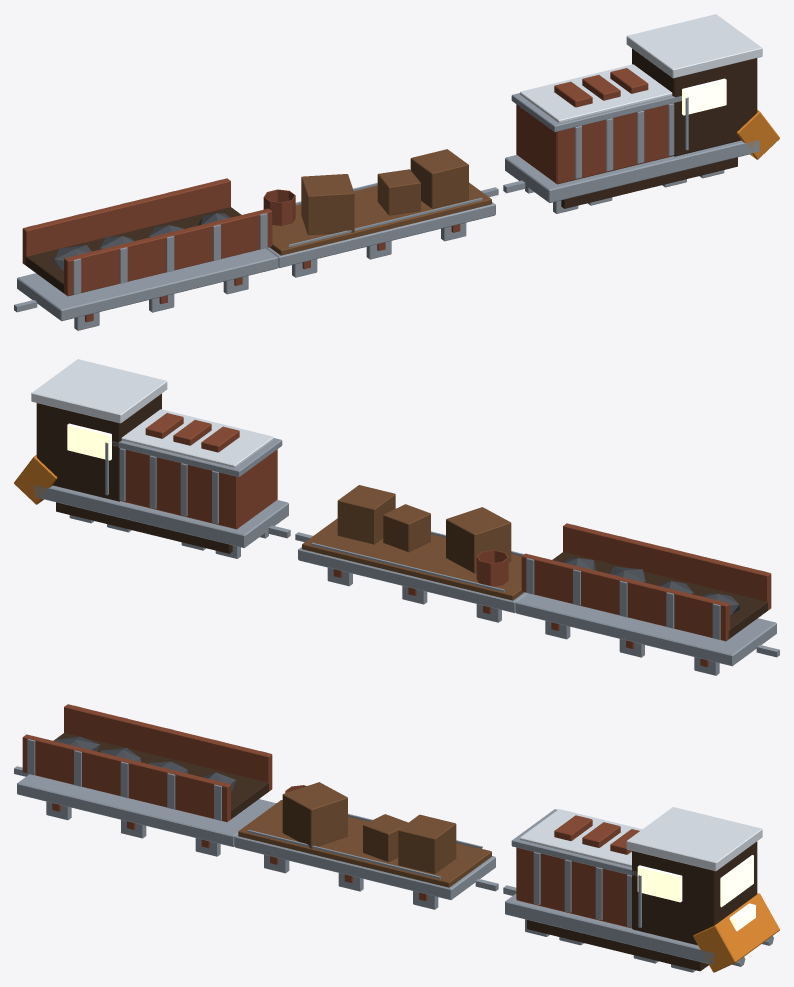
File: MenuFreightTrain.fbx
3 renders of one model, top to bottom at view 1: azimuth 30°, elevation 25°; view 2: azimuth 150°, elevation 25°; view 3: azimuth 330°, elevation 25°, orthographic.
Parts seen in each view (by area): view 1: TrainLoco, TrainCarB, TrainCarA; view 2: TrainLoco, TrainCarB, TrainCarA; view 3: TrainLoco, TrainCarB, TrainCarA.
Part boxes in pixels (left/top/right/bottom): TrainLoco: left=503, top=14, right=779, bottom=213; TrainCarB: left=14, top=178, right=278, bottom=330; TrainCarA: left=263, top=149, right=498, bottom=277; TrainLoco: left=14, top=359, right=290, bottom=558; TrainCarB: left=515, top=523, right=779, bottom=675; TrainCarA: left=295, top=485, right=527, bottom=622; TrainLoco: left=503, top=807, right=779, bottom=972; TrainCarB: left=14, top=704, right=276, bottom=856; TrainCarA: left=234, top=782, right=498, bottom=909.
Size of the model in its own units: 2389 by 380 by 267.
